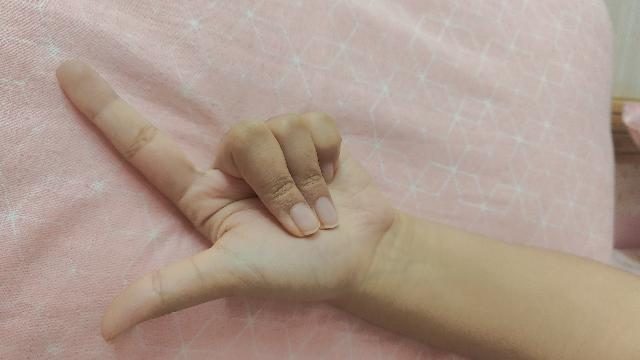chandrakala: (58, 63, 640, 360)
